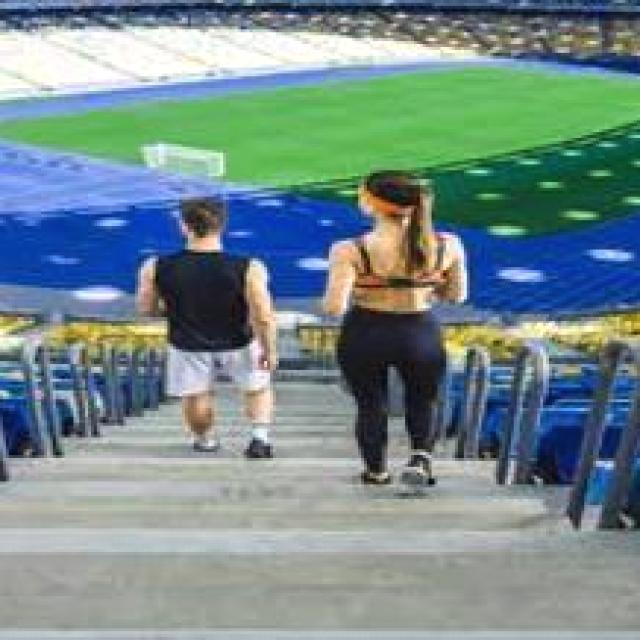downstair: (42, 415, 515, 588)
